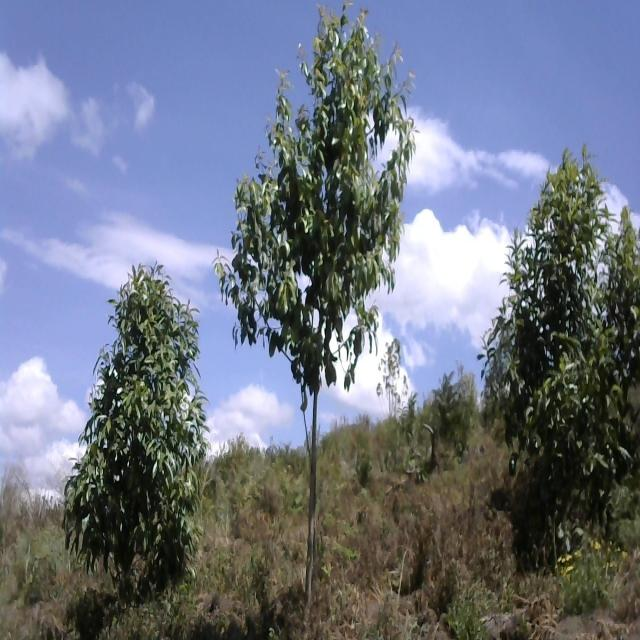Olea welwitchii: (213, 2, 421, 640), (484, 150, 640, 550), (69, 258, 210, 597)
